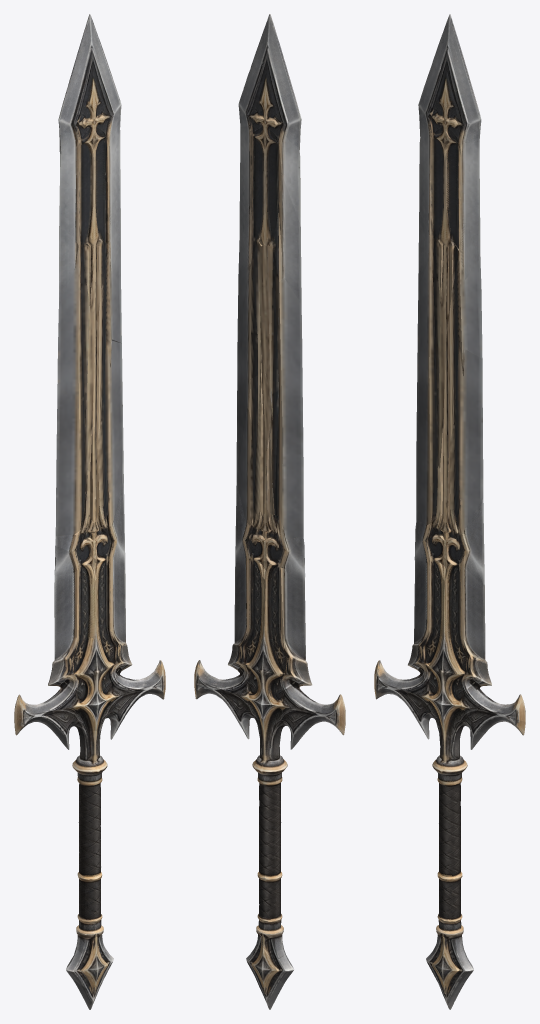
The model's file is GRS042_Remesh_10k.fbx.
The picture shows the model from 3 angles, left to right: view 1: azimuth 30°, elevation 25°; view 2: azimuth 150°, elevation 25°; view 3: azimuth 330°, elevation 25°; orthographic projection.
Visible parts, largest first — view 1: output_unwrapped; view 2: output_unwrapped; view 3: output_unwrapped.
Part boxes in pixels (box(x1,y1,x2,y2)): output_unwrapped: box(14, 14, 165, 1009); output_unwrapped: box(194, 14, 345, 1009); output_unwrapped: box(374, 14, 525, 1009).
Bounding box in the file's own units: 30.27 × 190 × 6.06.
1 material, 1 textured.
